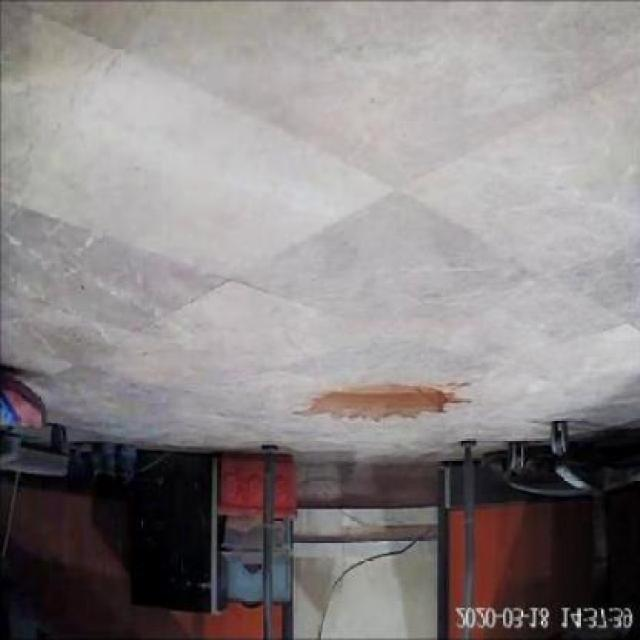spillage: (311, 382, 470, 419)
